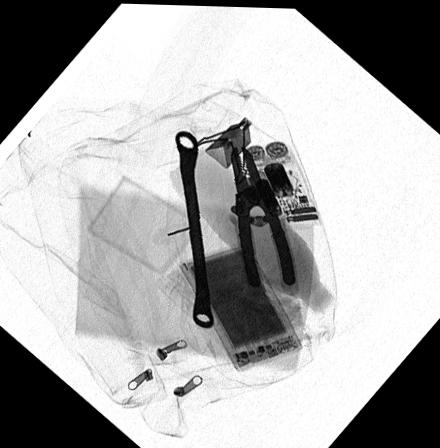Pliers: (230, 144, 295, 288)
Powerbank: (178, 241, 302, 369)
Wrench: (174, 129, 215, 327)
